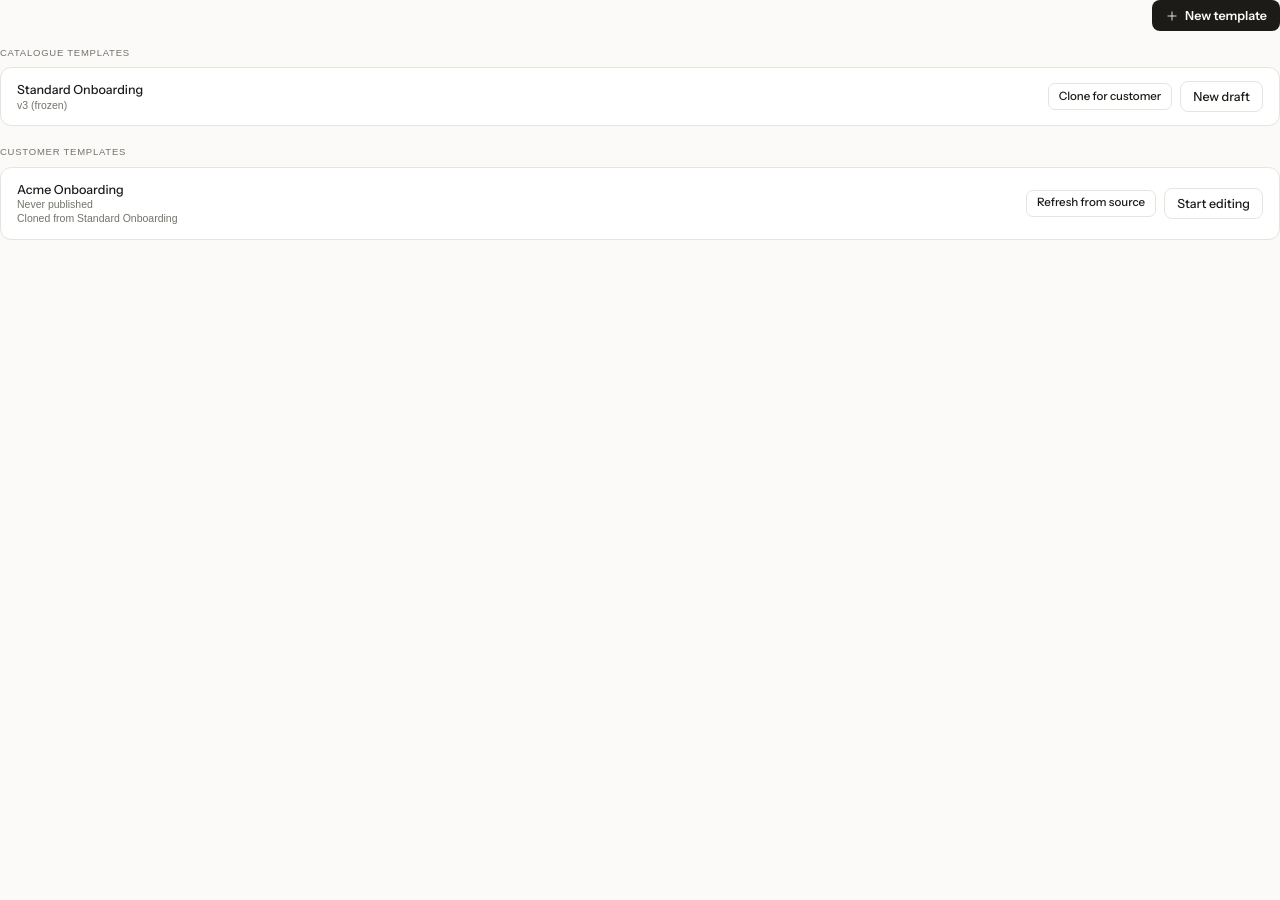
Test: WorkflowsPage -- customer templates (QA Q21) › opens the refresh dialog from a customer-template row
Click the button "Refresh from source": {"x": 1091, "y": 203} [1026,190,1156,217]
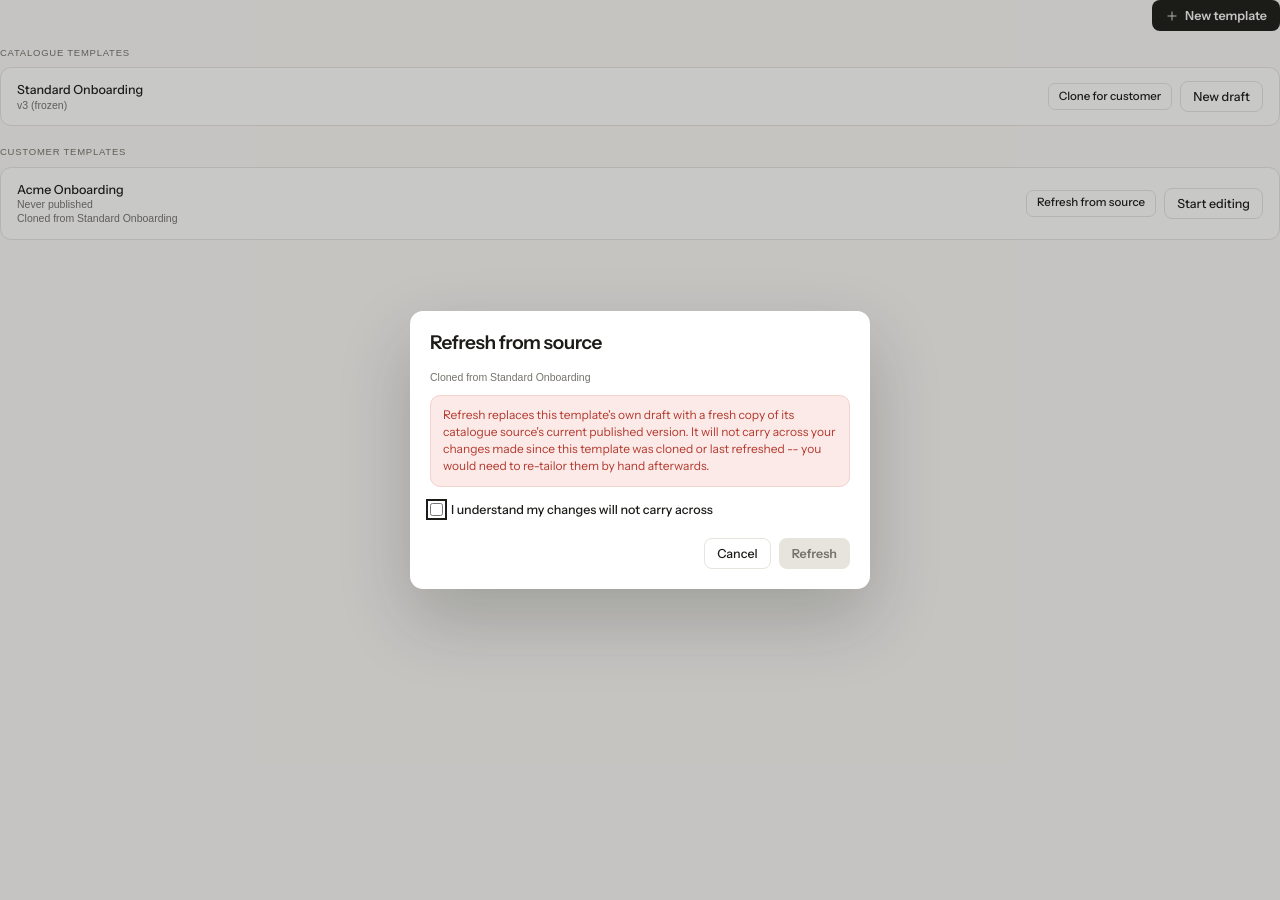
Expected: the heading "Refresh from source" is shown, [430,331,602,354]
